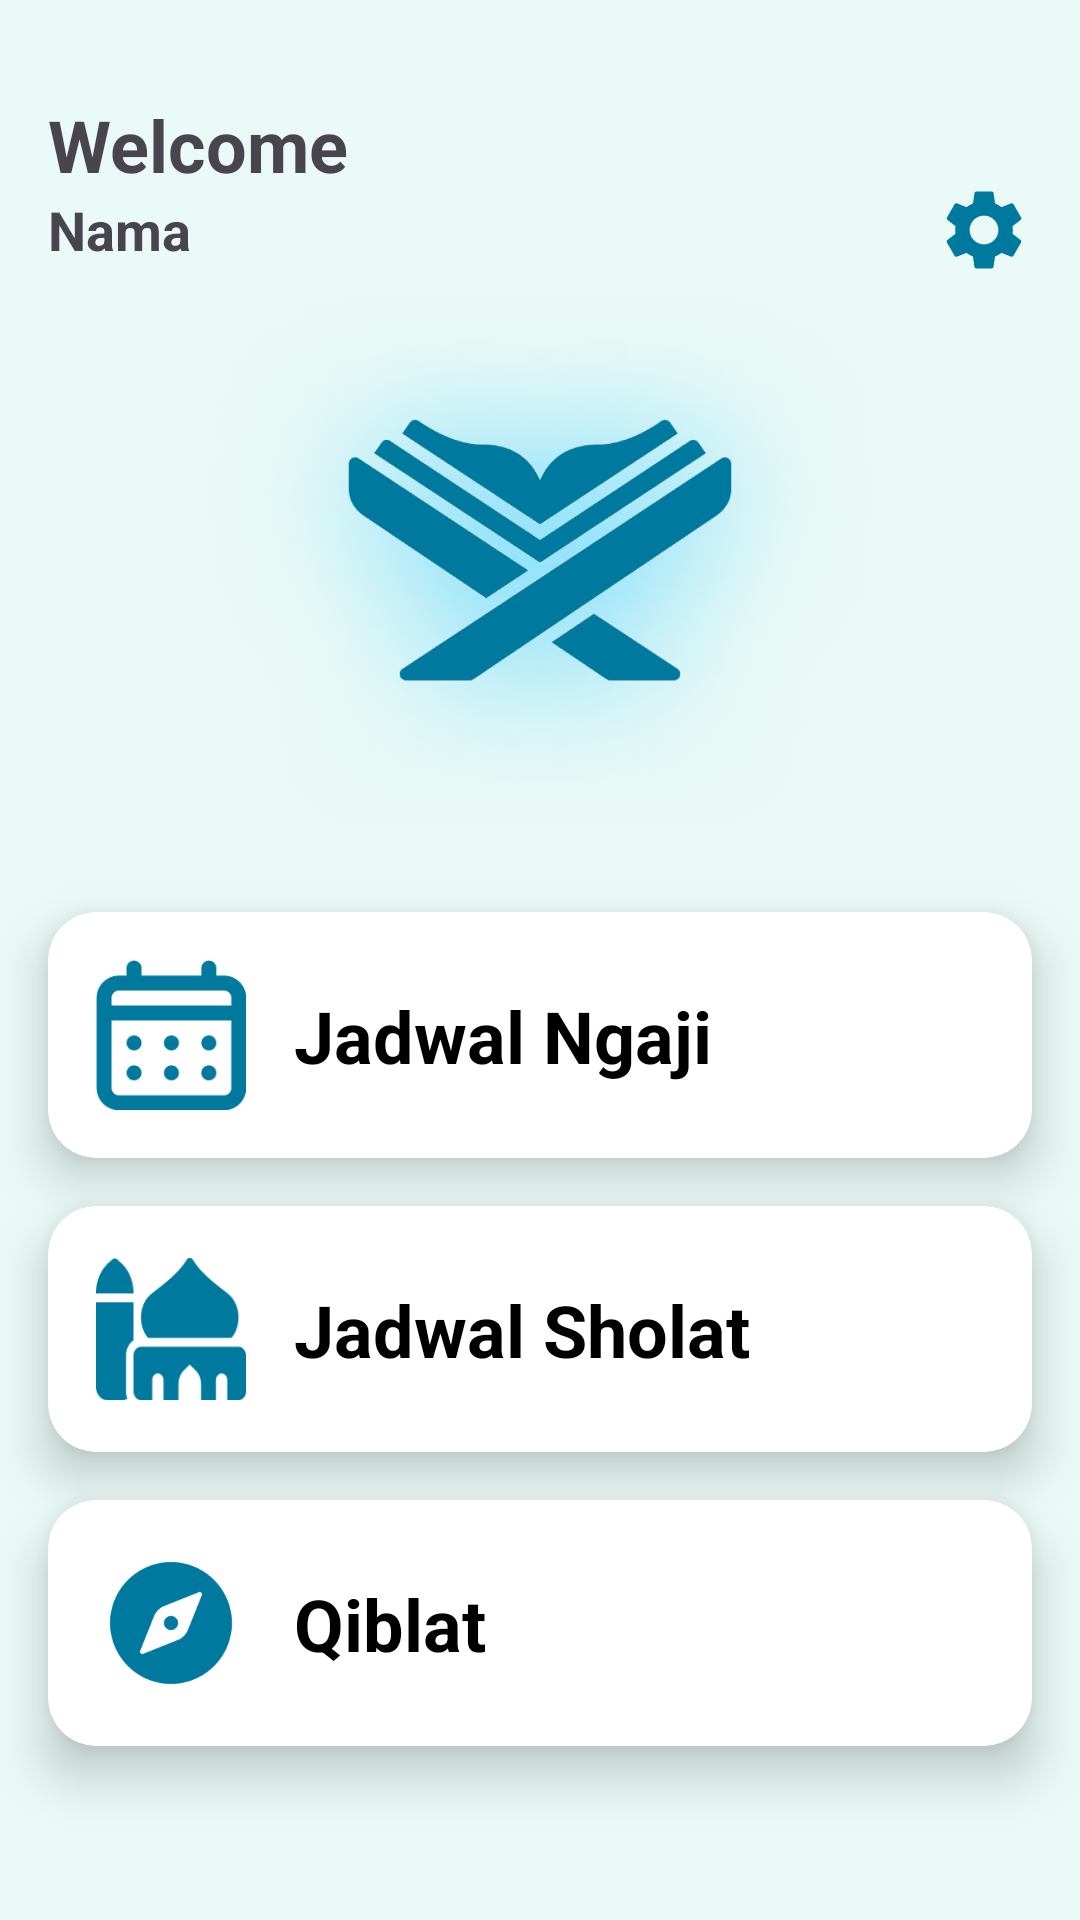

Locate icon controls on the screen. Image size 1080 x 1920, boxes as [x1, y1, x2, y2].
calendar: [96, 960, 246, 1110]
ion compass: [109, 1561, 233, 1685]
mosque: [96, 1258, 246, 1400]
Setting: [946, 191, 1022, 269]
